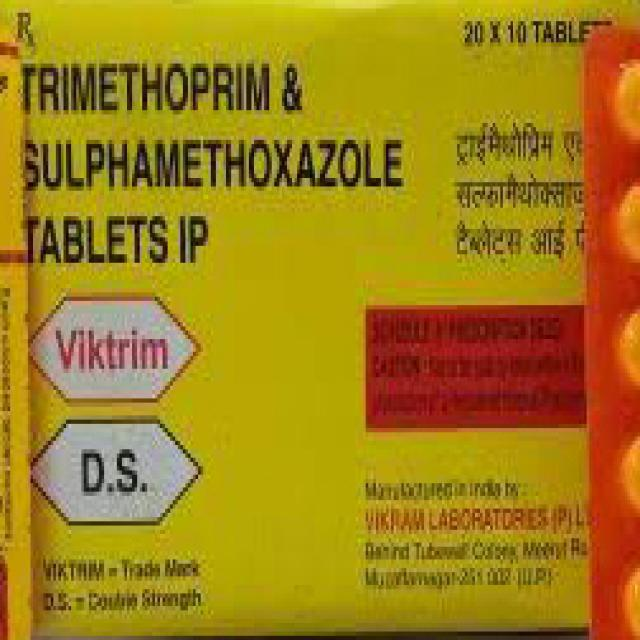drug-name: (54, 310, 171, 386)
